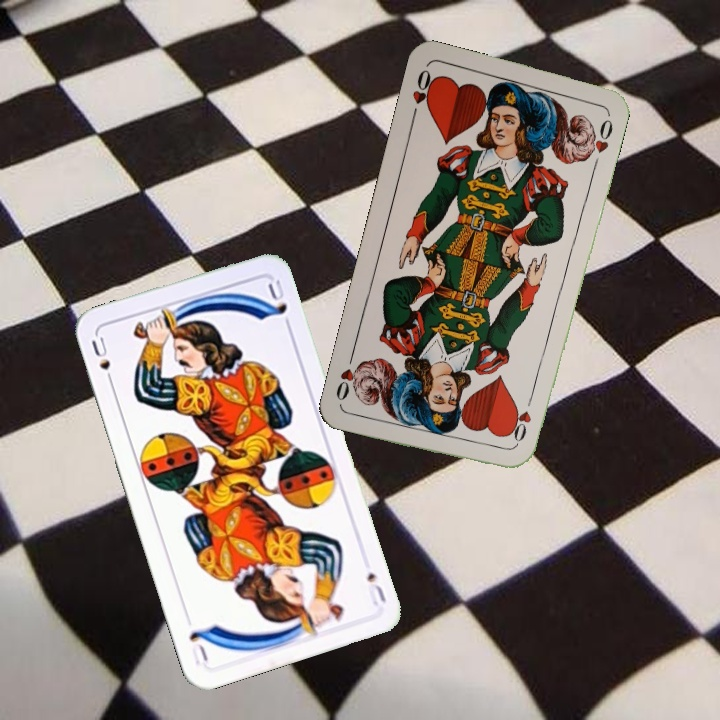HO: (407, 65, 438, 122), (510, 391, 536, 448)
SU: (87, 332, 117, 390), (362, 568, 389, 609)
